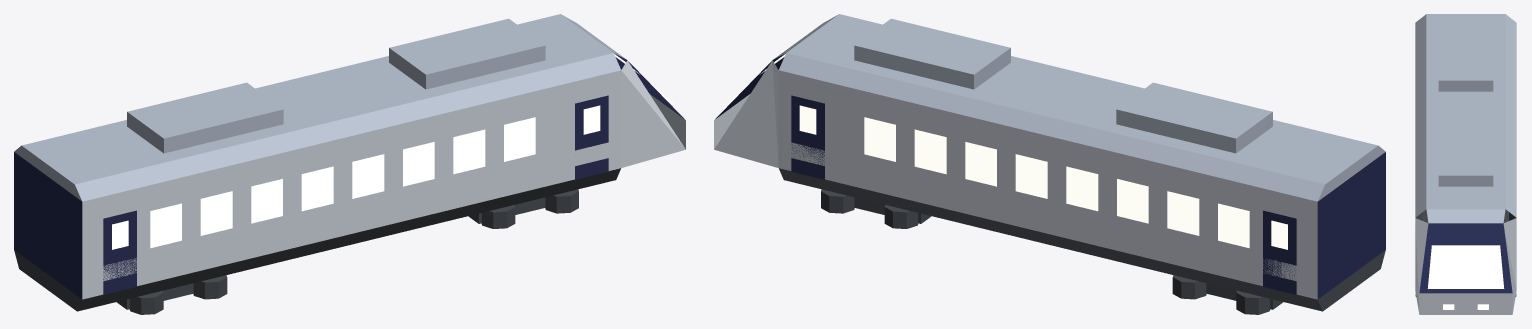
Rendered from taipei-mrt-c381.glb.
3 views of the same model, side by side, from view 1: azimuth 30°, elevation 25°; view 2: azimuth 150°, elevation 25°; view 3: azimuth 270°, elevation 25° (orthographic). The views are drawn at different scales.
Visible parts, largest first — view 1: taipei-mrt-c381_root; view 2: taipei-mrt-c381_root; view 3: taipei-mrt-c381_root.
Part boxes in pixels (x1,y1,x2,y2): taipei-mrt-c381_root: [14, 14, 685, 314]; taipei-mrt-c381_root: [714, 14, 1385, 314]; taipei-mrt-c381_root: [1415, 14, 1516, 314].
Bounding box in the file's own units: 16.22 × 4.04 × 3.22.
2 materials, 2 textured.
